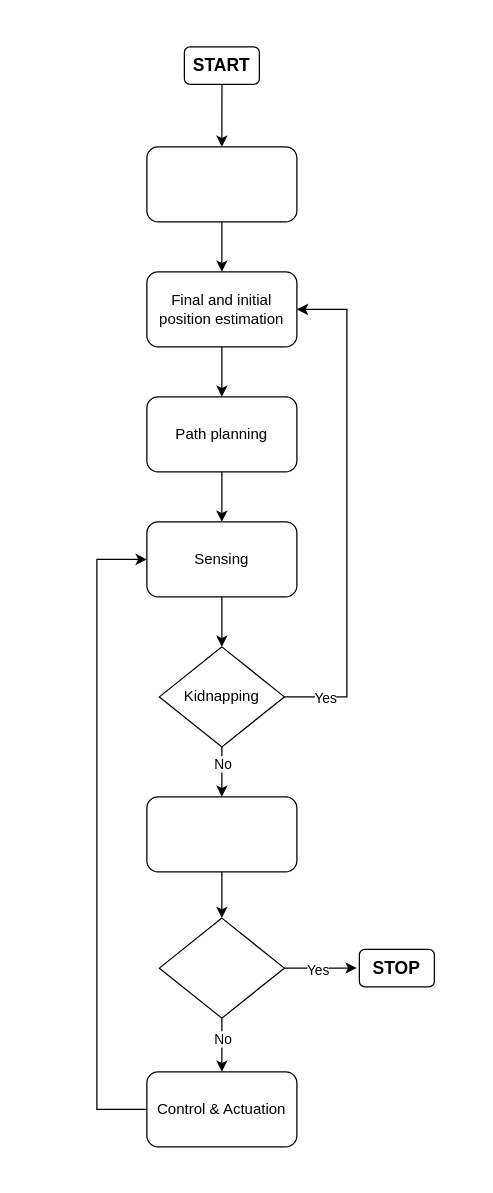
Image size: 493x1193. Some labels were removed from this diagram. The shapes that lost their labels are listed below. From the top down, each one's centre as x and y in pixels, then its label:
At pixel 221 184: "Map creation".
At pixel 221 834: "Position estimation".
At pixel 221 967: "Goal reached".
